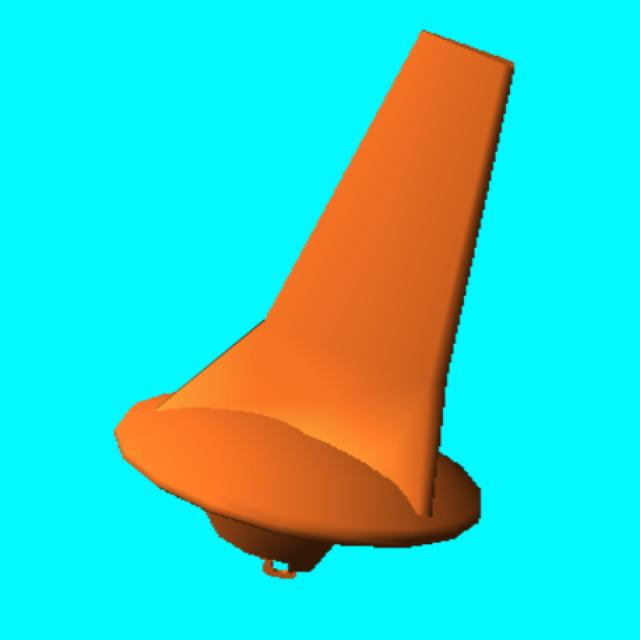OrangeBuoy: (116, 32, 512, 571)
